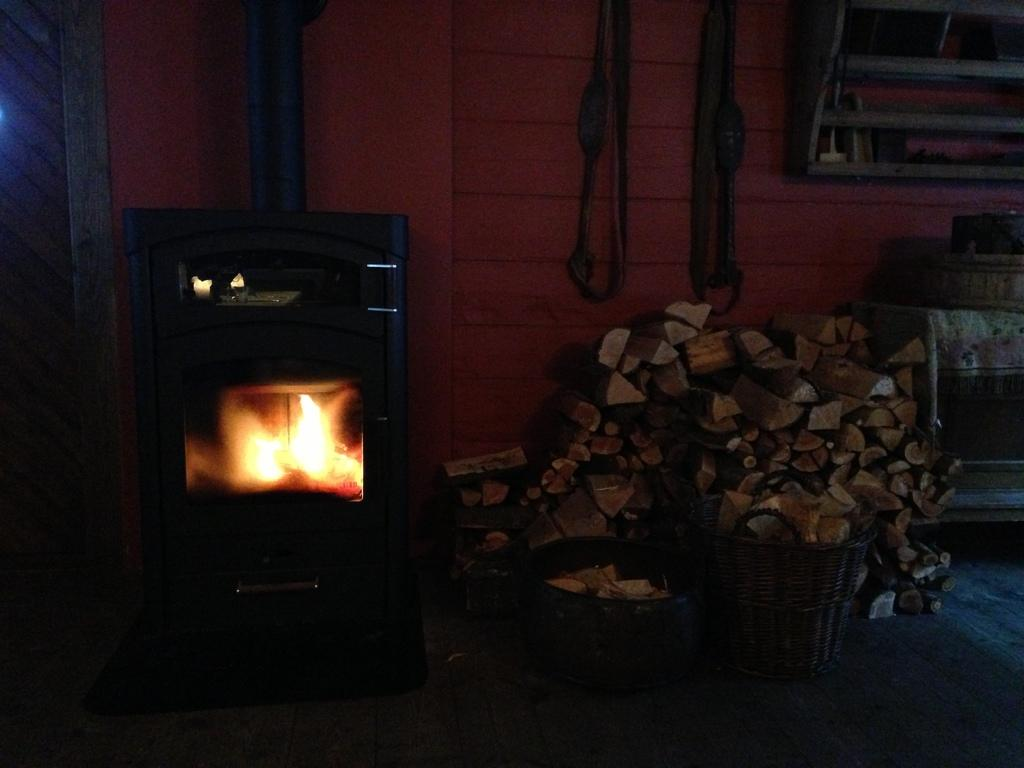Fire: (178, 371, 371, 506)
